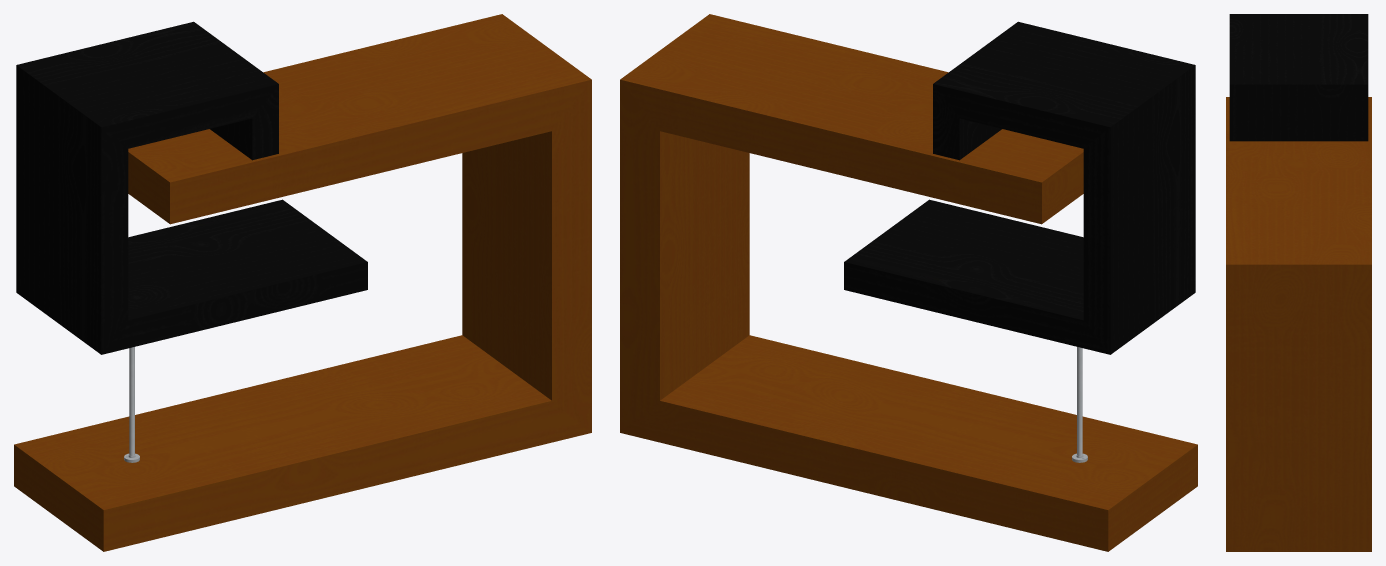
Rendered from living_room_furniture.glb.
The picture shows the model from 3 angles, left to right: view 1: azimuth 30°, elevation 25°; view 2: azimuth 150°, elevation 25°; view 3: azimuth 270°, elevation 25°; orthographic projection. The views are drawn at different scales.
Parts seen in each view (by area): view 1: castanho_low_01, preto_low_01; view 2: castanho_low_01, preto_low_01; view 3: castanho_low_01, preto_low_01.
Part boxes in pixels (x1=…): castanho_low_01: x1=14, y1=14, x2=591, y2=551; preto_low_01: x1=16, y1=21, x2=367, y2=354; castanho_low_01: x1=620, y1=14, x2=1197, y2=551; preto_low_01: x1=844, y1=21, x2=1195, y2=354; castanho_low_01: x1=1226, y1=97, x2=1371, y2=551; preto_low_01: x1=1229, y1=14, x2=1368, y2=141.
Bounding box in the file's own units: 1.68 × 1.39 × 0.5352.
1 material, 1 textured.
